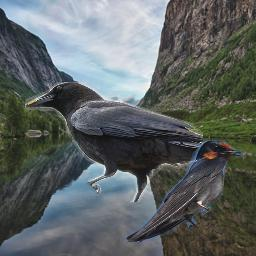Crow: (25, 82, 203, 202)
Swallow: (125, 140, 242, 242)
